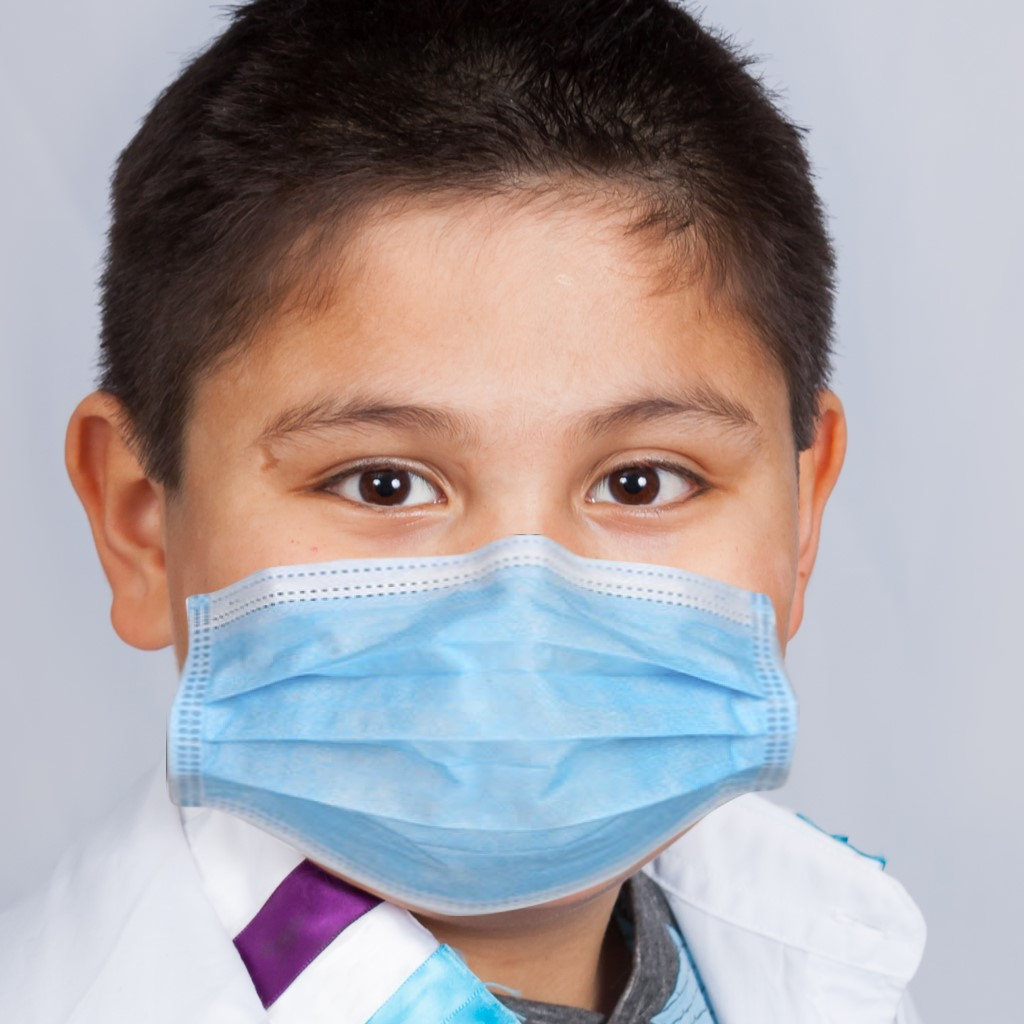con_mascara: (157, 121, 780, 930)
